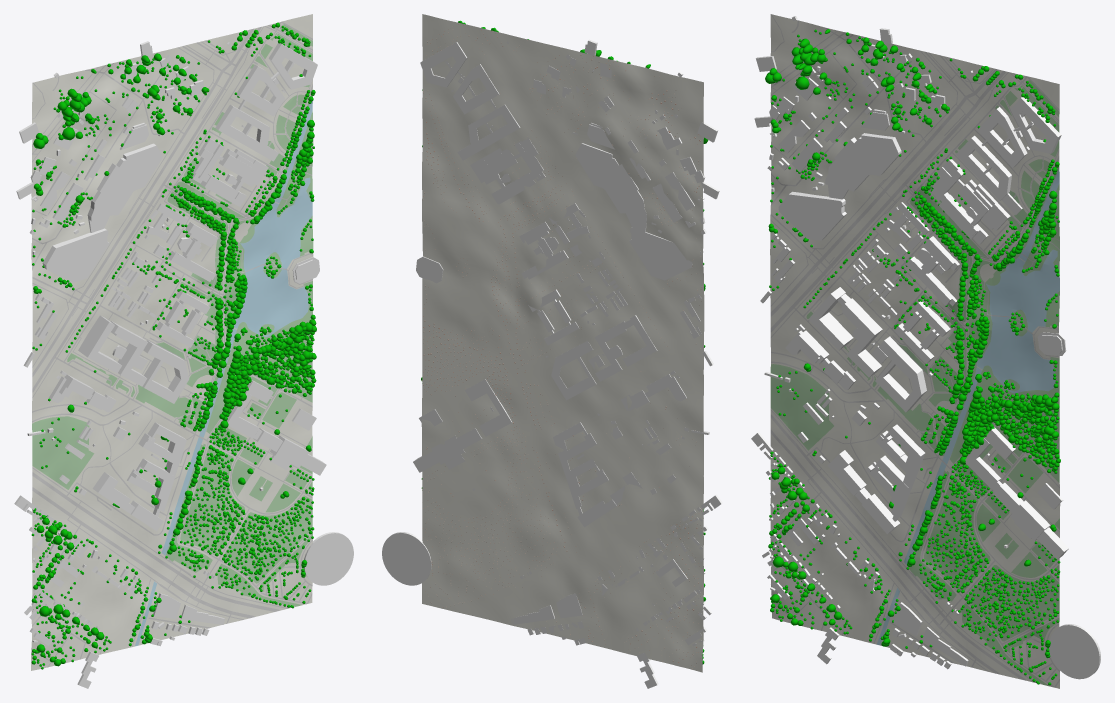
File: west-3d.glb
3 renders of one model, left to right at view 1: azimuth 30°, elevation 25°; view 2: azimuth 150°, elevation 25°; view 3: azimuth 330°, elevation 25°, orthographic. The views are drawn at different scales.
Parts seen in each view (by area): view 1: TPX_Ground, TPX_Buildings, TPX_GreenAreas, TPX_RoadsOutlines, TPX_Waterways_1; view 2: TPX_Ground, TPX_Buildings; view 3: TPX_Ground, TPX_Buildings, TPX_GreenAreas, TPX_RoadsOutlines, TPX_Waterways_1.
Part boxes in pixels (x1,y1,x2,y2): TPX_Ground: (31,14,313,670); TPX_Buildings: (14,41,353,688); TPX_GreenAreas: (32,24,313,606); TPX_RoadsOutlines: (31,21,313,667); TPX_Waterways_1: (135,96,312,646); TPX_Ground: (421,14,704,672); TPX_Buildings: (382,39,722,688); TPX_Ground: (770,14,1060,688); TPX_Buildings: (751,16,1100,679); TPX_GreenAreas: (770,80,1059,686); TPX_RoadsOutlines: (770,14,1059,687); TPX_Waterways_1: (876,168,1059,645).
Size of the model in its own units: 822 by 1466 by 45.54.
